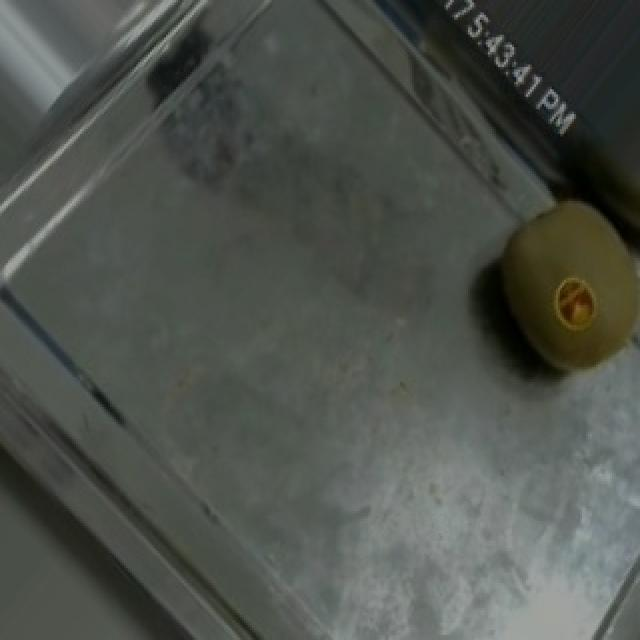Fruit: (450, 171, 640, 407)
